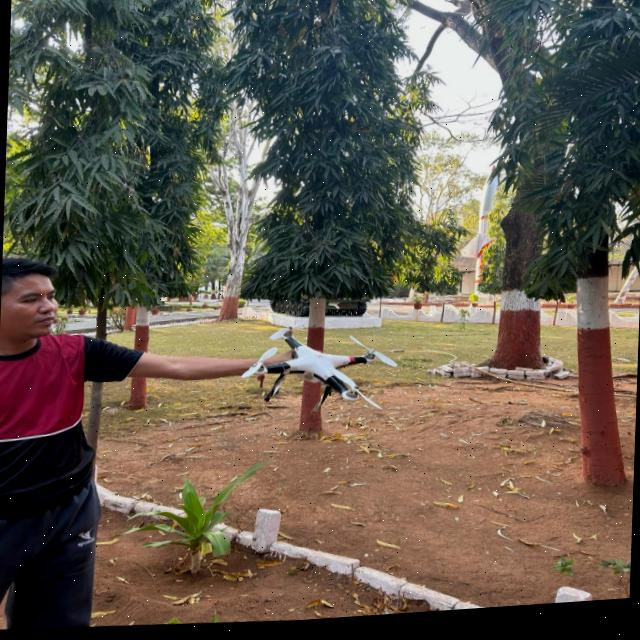drone: (234, 304, 426, 446)
